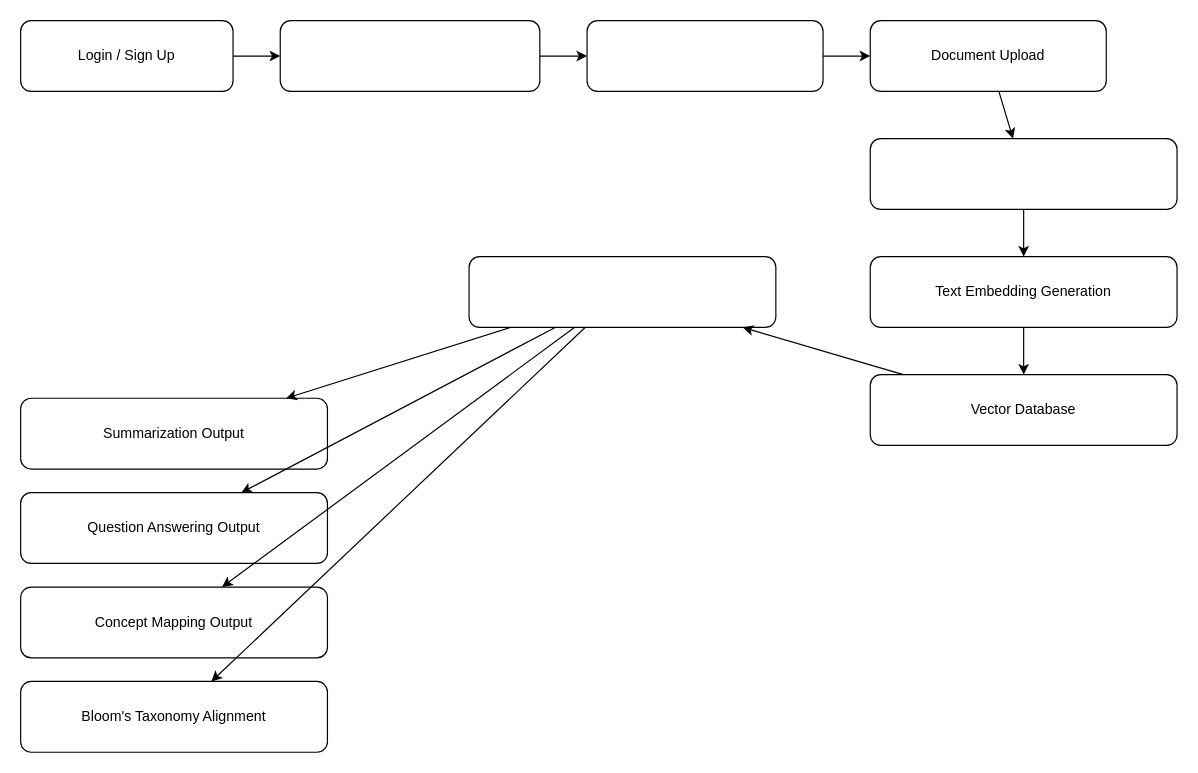
Image size: 1198x773. Some labels were removed from this diagram. The box of each missing label's shape, as (x1, y1, x2, y2) in pixels:
Authentication Database: (279, 19, 540, 91)
LLM Processing Engine: (468, 255, 776, 327)
Text Extraction and Preprocessing: (869, 137, 1177, 209)
User Dashboard: (586, 19, 823, 91)
